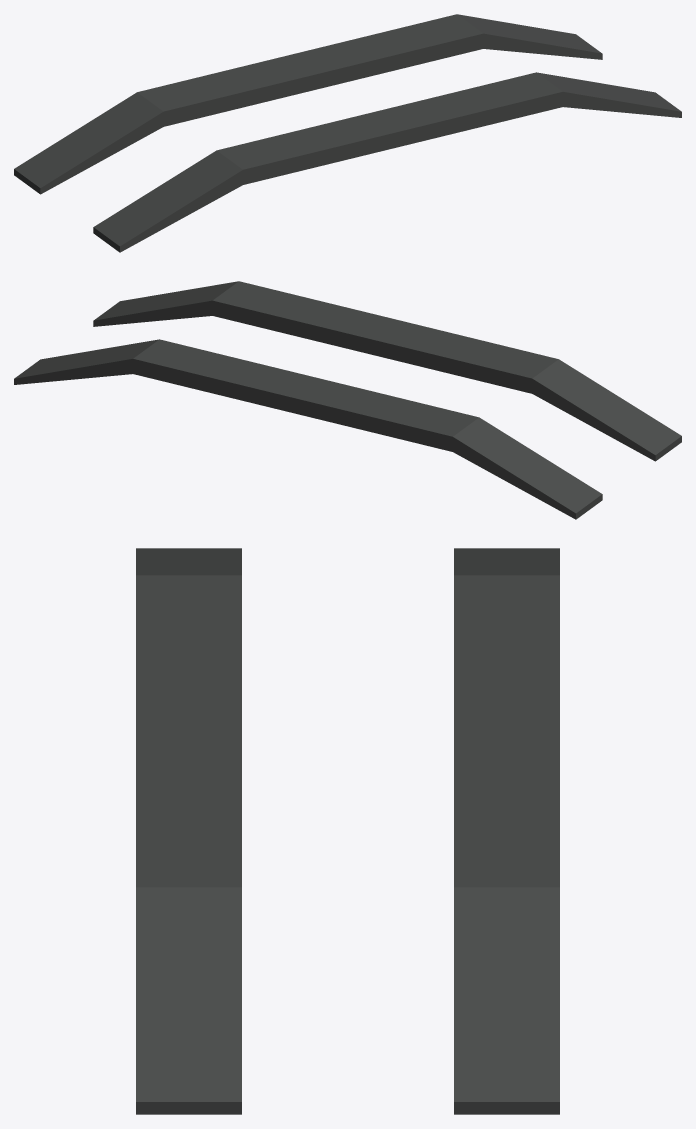
Rendered from bridge.glb.
3 views of the same model, one above another, from view 1: azimuth 30°, elevation 25°; view 2: azimuth 150°, elevation 25°; view 3: azimuth 270°, elevation 25° (orthographic). The views are drawn at different scales.
Visible parts, largest first — view 1: logistics bridge; view 2: logistics bridge; view 3: logistics bridge.
Boxes of the visible parts, x1,y1,x2,y2 form: logistics bridge: (14, 14, 681, 252); logistics bridge: (14, 281, 681, 519); logistics bridge: (136, 548, 559, 1114).
Size of the model in its own units: 13.91 by 1.31 by 4.54.
Materials: 1 (1 with a texture image).
